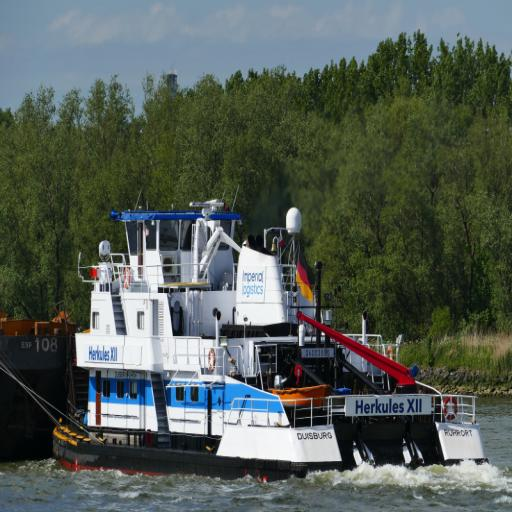tugboat: (48, 196, 498, 491)
